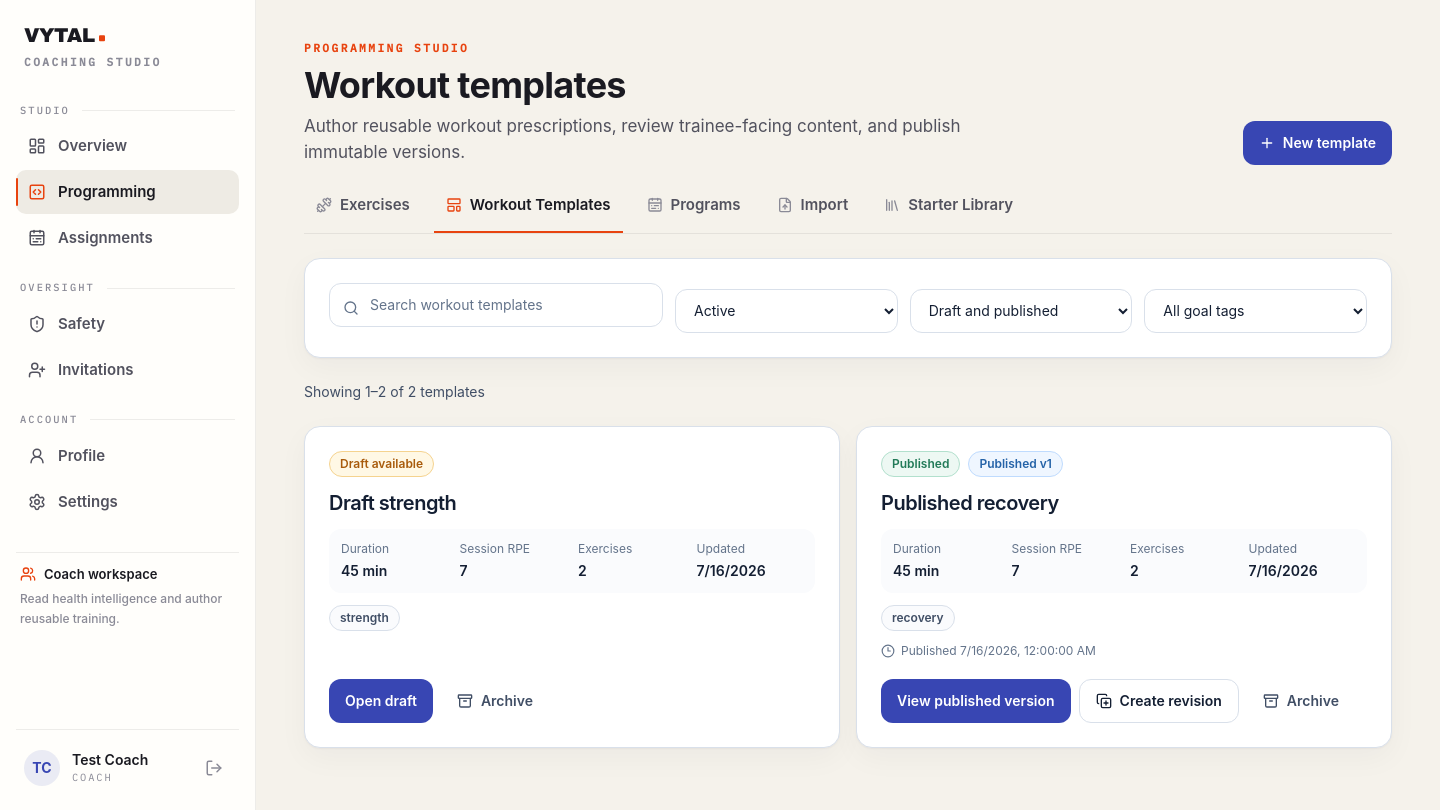
Test case: Workout-template workspace › filters template summaries by draft and goal state
The image size is (1440, 810).
Expected: the heading "Draft strength" is shown, [329,491,456,515]
Expected: the heading "Published recovery" is shown, [881,491,1059,515]
Select "Has draft" in the dropdown named "Publication status": (1021, 311) [910,289,1132,333]
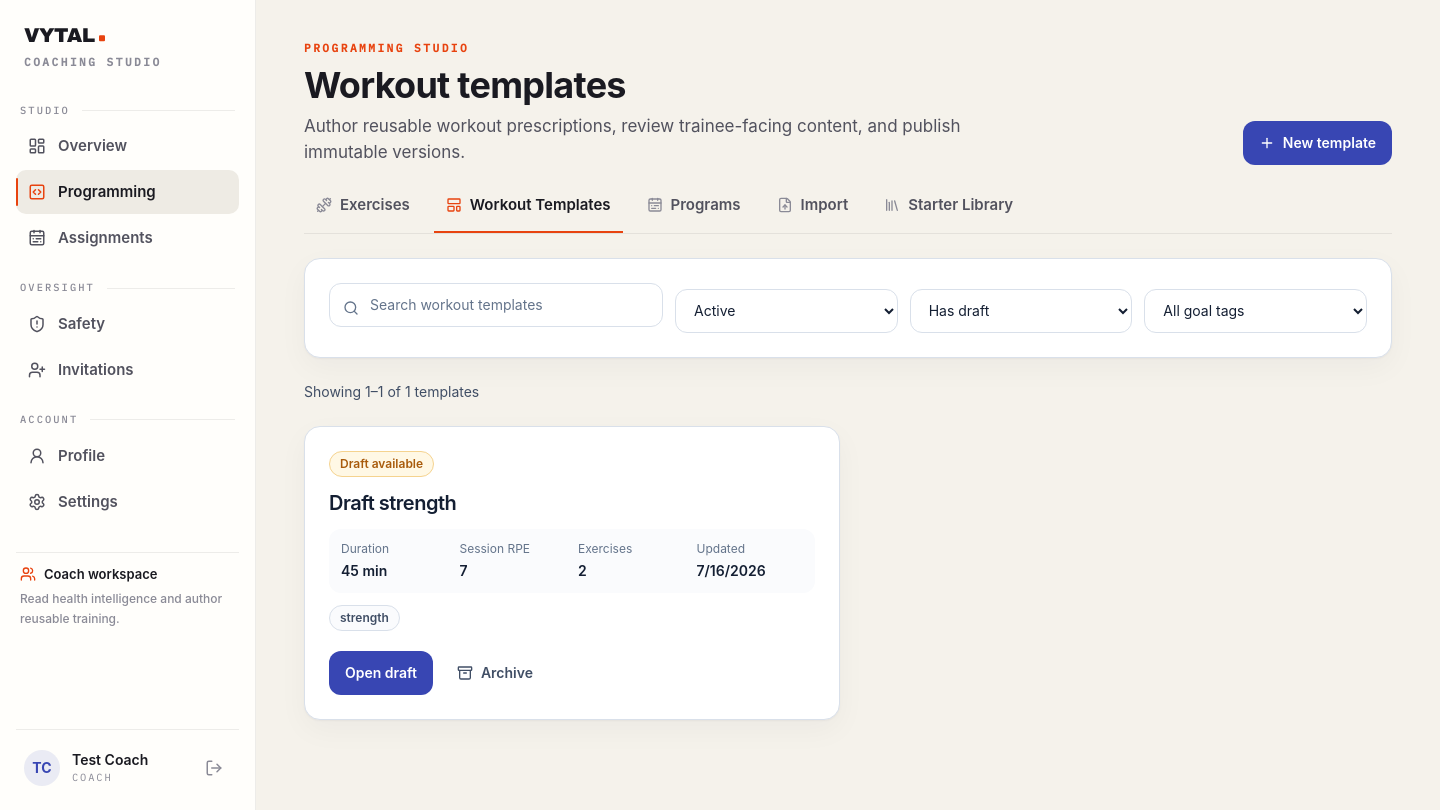
Expected: the heading "Draft strength" is shown, [329,491,456,515]
Expected: the heading "Published recovery" is gone
Select "recovery" in the dropdown named "Goal tag": (1256, 311) [1144,289,1367,333]
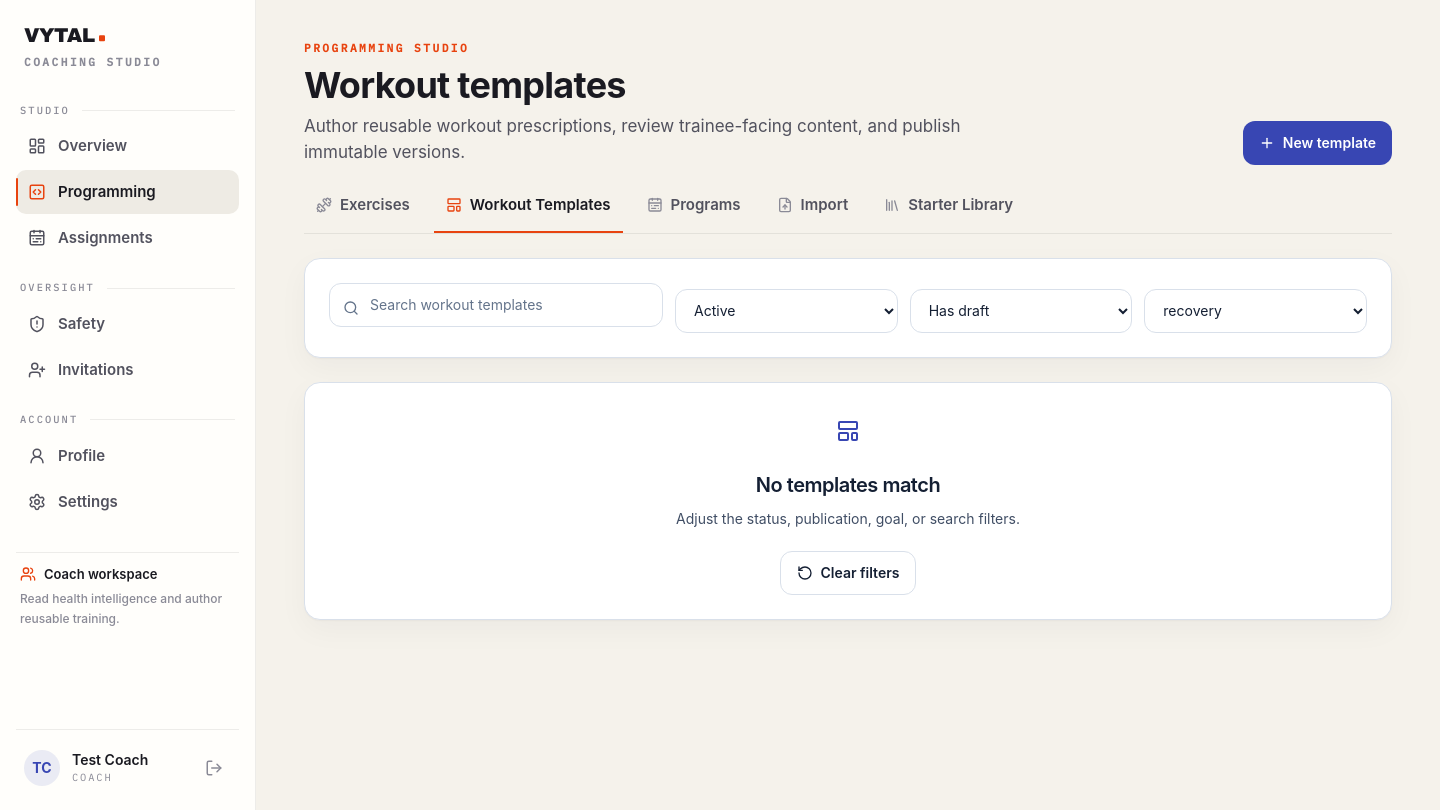
Expected: the heading "No templates match" is shown, [756,473,940,497]
